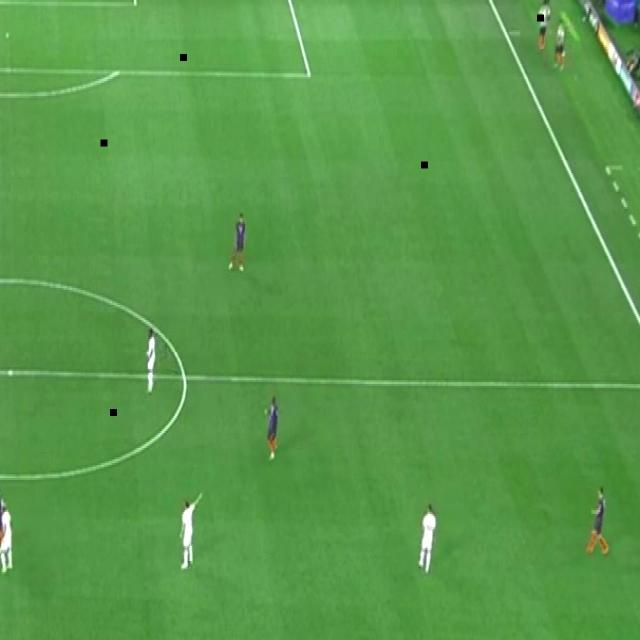player-white: (180, 491, 203, 572), (585, 486, 610, 556), (418, 504, 437, 576), (228, 210, 248, 274), (264, 394, 280, 462), (0, 503, 14, 575), (145, 326, 157, 394), (0, 486, 6, 557)
